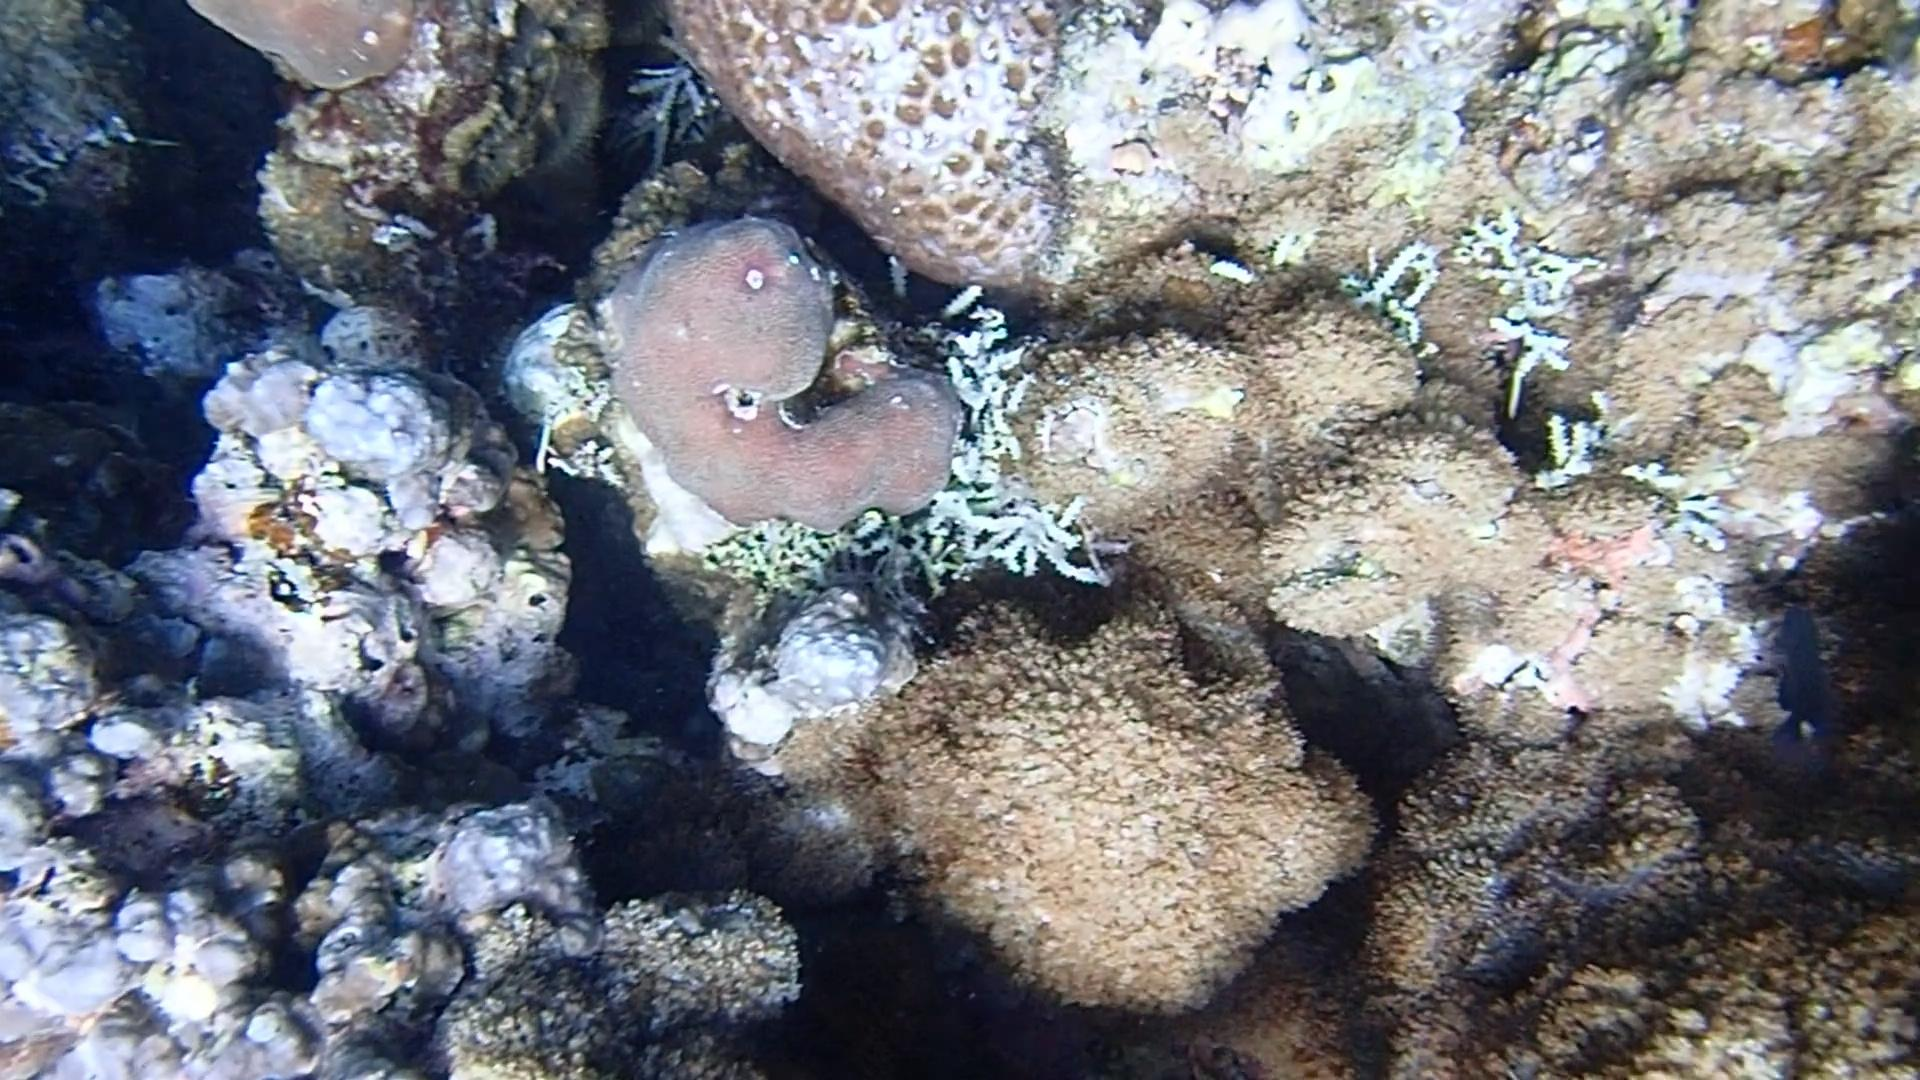Dark Fish: (1756, 604, 1849, 769)
